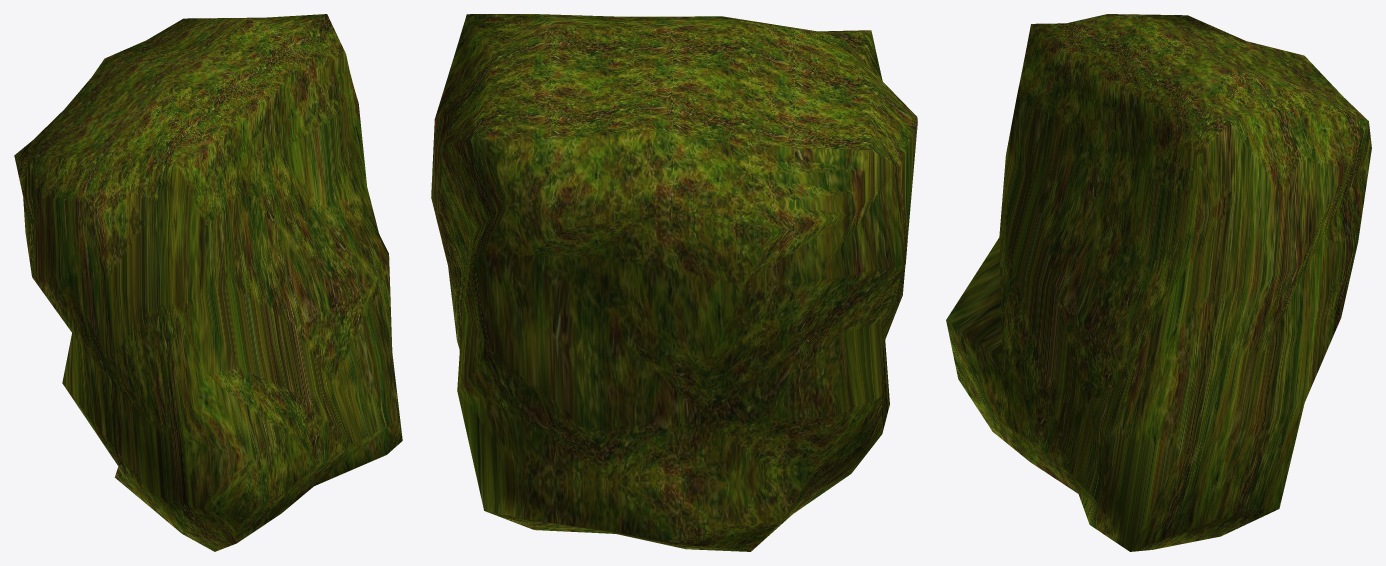
The model's file is TROLLHOLE02_ZRM_PSURF104.fbx.
3 renders of one model, left to right at view 1: azimuth 30°, elevation 25°; view 2: azimuth 150°, elevation 25°; view 3: azimuth 270°, elevation 25°, orthographic. The views are drawn at different scales.
Parts seen in each view (by area): view 1: TROLLHOLE02_ZRM_PSURF104; view 2: TROLLHOLE02_ZRM_PSURF104; view 3: TROLLHOLE02_ZRM_PSURF104.
Boxes of the visible parts, bbox=[...] form: TROLLHOLE02_ZRM_PSURF104: bbox=[14, 14, 402, 551]; TROLLHOLE02_ZRM_PSURF104: bbox=[431, 14, 917, 551]; TROLLHOLE02_ZRM_PSURF104: bbox=[946, 14, 1371, 551].
Bounding box in the file's own units: 109316 × 127233 × 104585.
Materials: 1 (1 with a texture image).
